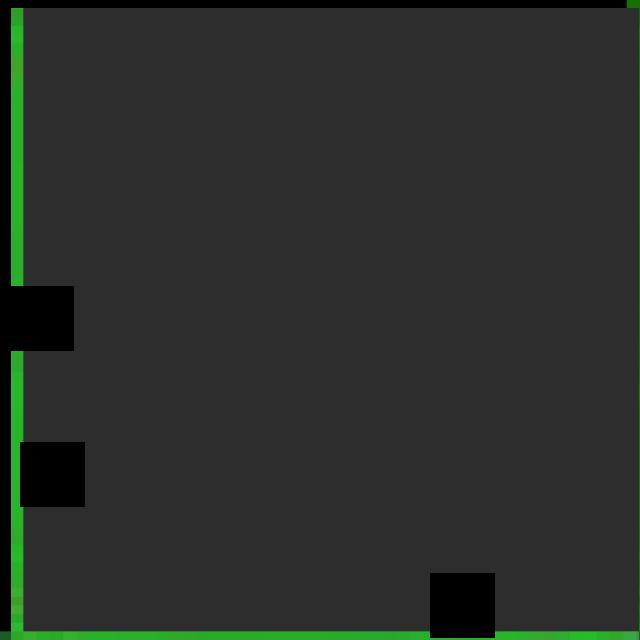nofire: (11, 8, 639, 640)
